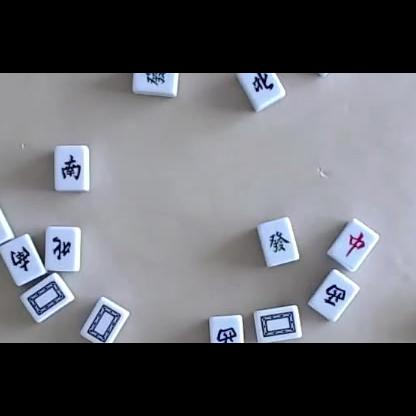2z: (61, 154, 82, 180), (10, 246, 30, 271)
3z: (324, 283, 347, 307), (216, 326, 236, 343)
4z: (51, 235, 71, 260), (252, 73, 273, 91)
5z: (27, 281, 65, 316), (87, 304, 120, 343), (260, 311, 296, 338)
6z: (268, 231, 291, 253), (145, 73, 167, 86)
7z: (346, 231, 365, 258)
